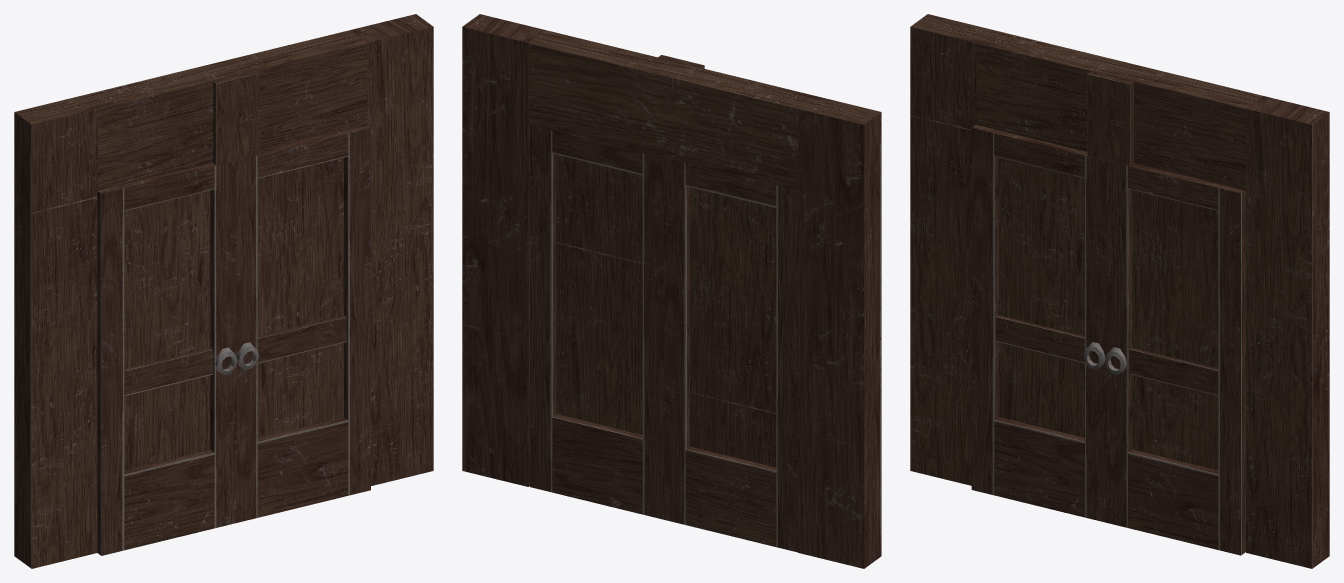
File: DoorsChurch.fbx
3 renders of one model, left to right at view 1: azimuth 30°, elevation 25°; view 2: azimuth 150°, elevation 25°; view 3: azimuth 330°, elevation 25°, orthographic.
Parts seen in each view (by area): view 1: FrameDoorsDouleChurch, AntaLeft, AntaRighr; view 2: FrameDoorsDouleChurch, AntaRighr, AntaLeft; view 3: FrameDoorsDouleChurch, AntaRighr, AntaLeft.
Boxes of the visible parts, bbox=[...] form: FrameDoorsDouleChurch: bbox=[14, 14, 433, 568]; AntaLeft: bbox=[97, 161, 237, 555]; AntaRighr: bbox=[236, 125, 370, 522]; FrameDoorsDouleChurch: bbox=[462, 14, 881, 568]; AntaRighr: bbox=[530, 125, 664, 519]; AntaLeft: bbox=[664, 158, 797, 552]; FrameDoorsDouleChurch: bbox=[910, 14, 1329, 568]; AntaRighr: bbox=[1105, 160, 1245, 555]; AntaLeft: bbox=[971, 125, 1106, 522].
Size of the model in its own units: 249 by 263 by 26.28.
Materials: 1 (1 with a texture image).
